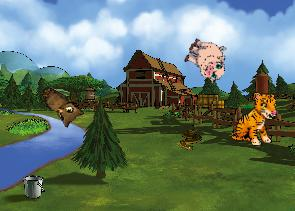owl: (32, 85, 86, 131)
pig: (179, 33, 233, 85)
tiger: (231, 91, 278, 147)
